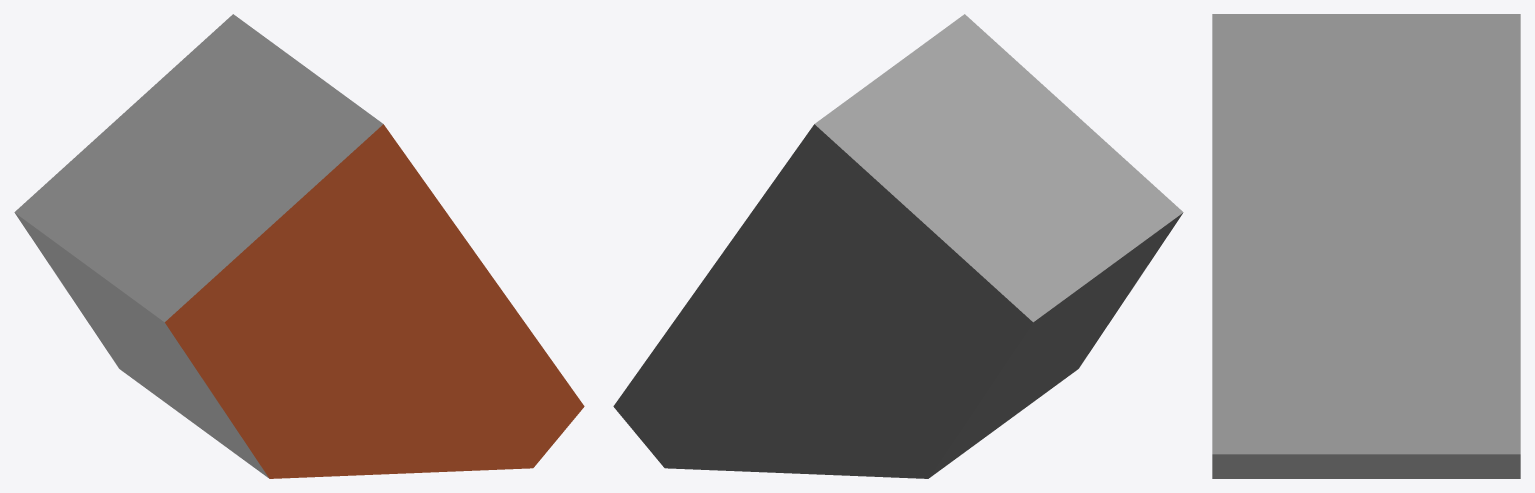
The model's file is construction_3936_assumed_A_Casa_h6m.obj.
The picture shows the model from 3 angles, left to right: view 1: azimuth 30°, elevation 25°; view 2: azimuth 150°, elevation 25°; view 3: azimuth 270°, elevation 25°; orthographic projection. The views are drawn at different scales.
Parts seen in each view (by area): view 1: construction_3936_assumed_A_Casa; view 2: construction_3936_assumed_A_Casa; view 3: construction_3936_assumed_A_Casa.
Boxes of the visible parts, x1,y1,x2,y2 form: construction_3936_assumed_A_Casa: [14, 14, 584, 478]; construction_3936_assumed_A_Casa: [613, 14, 1183, 478]; construction_3936_assumed_A_Casa: [1212, 14, 1520, 478].
Size of the model in its own units: 9.68 by 8.38 by 6.
